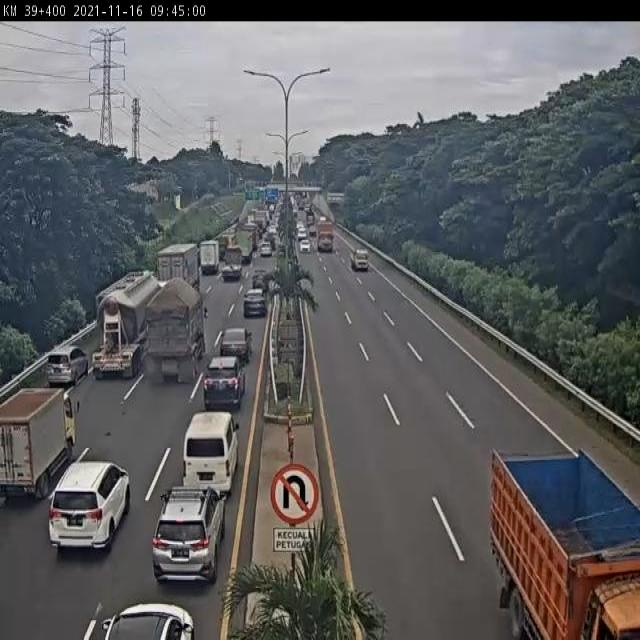Car: (47, 463, 131, 556), (151, 484, 228, 583), (182, 412, 239, 496), (89, 600, 198, 638), (202, 354, 247, 410), (46, 346, 90, 387), (219, 327, 252, 365), (243, 288, 267, 316), (351, 248, 368, 270), (260, 243, 272, 257), (299, 240, 311, 253), (309, 224, 317, 237)
Truck: (490, 448, 640, 640), (0, 384, 81, 497), (146, 280, 205, 386), (158, 242, 200, 284), (197, 240, 221, 278), (220, 242, 242, 274), (318, 222, 336, 254)
